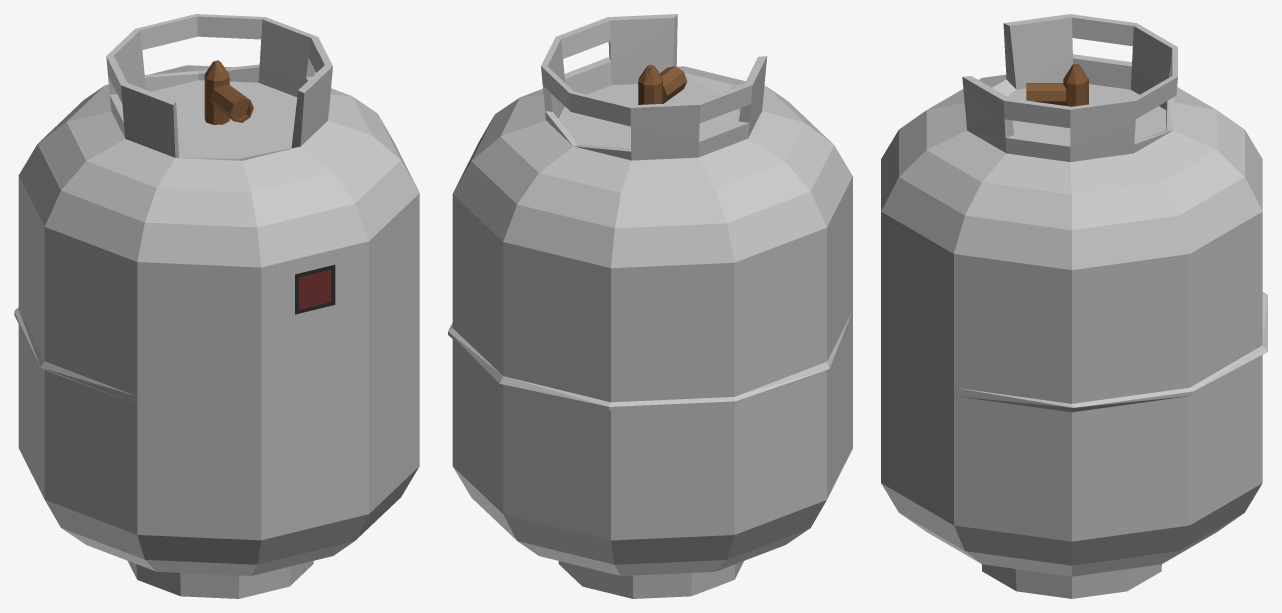
The model's file is propane_lod.glb.
The picture shows the model from 3 angles, left to right: view 1: azimuth 30°, elevation 25°; view 2: azimuth 150°, elevation 25°; view 3: azimuth 270°, elevation 25°; orthographic projection.
Parts seen in each view (by area): view 1: PropaneTank; view 2: PropaneTank; view 3: PropaneTank.
Boxes of the visible parts, x1,y1,x2,y2 form: PropaneTank: (14, 14, 419, 598); PropaneTank: (448, 14, 852, 598); PropaneTank: (881, 14, 1267, 598).
Size of the model in its own units: 2.16 by 2.89 by 2.04.
